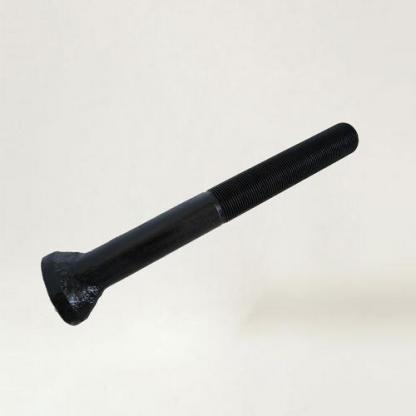FOD: (36, 121, 358, 328)
